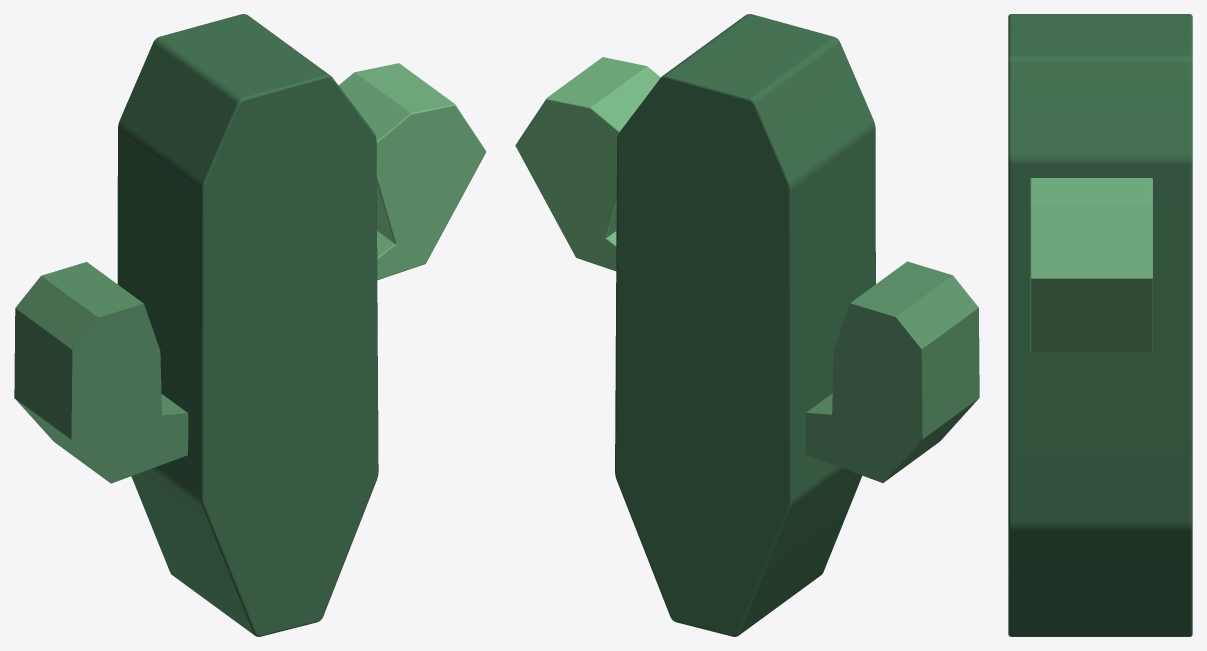
File: cactus.glb
The picture shows the model from 3 angles, left to right: view 1: azimuth 30°, elevation 25°; view 2: azimuth 150°, elevation 25°; view 3: azimuth 270°, elevation 25°; orthographic projection. The views are drawn at different scales.
Visible parts, largest first — view 1: Shape, Shape 3, Shape 2; view 2: Shape, Shape 3, Shape 2; view 3: Shape, Shape 2.
Part boxes in pixels (bbox=[...]): Shape: bbox=[117, 14, 378, 636]; Shape 3: bbox=[14, 262, 188, 483]; Shape 2: bbox=[339, 63, 486, 280]; Shape: bbox=[615, 14, 875, 636]; Shape 3: bbox=[806, 261, 979, 482]; Shape 2: bbox=[515, 57, 660, 271]; Shape: bbox=[1008, 14, 1192, 636]; Shape 2: bbox=[1030, 178, 1152, 351].
Bounding box in the file's own units: 41.59 × 52.67 × 15.
